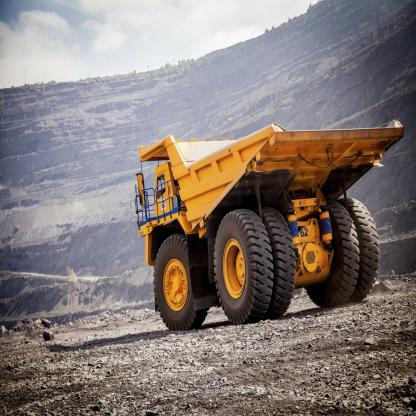dump_truck: (128, 113, 406, 338)
